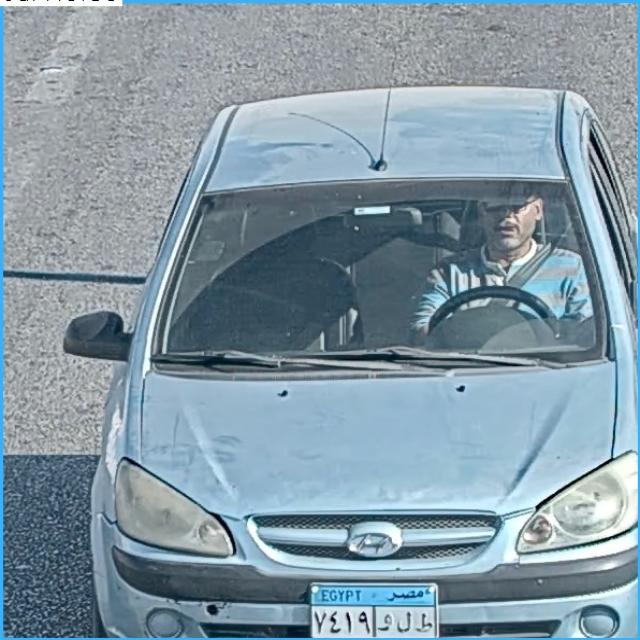windshield: (155, 188, 601, 361)
